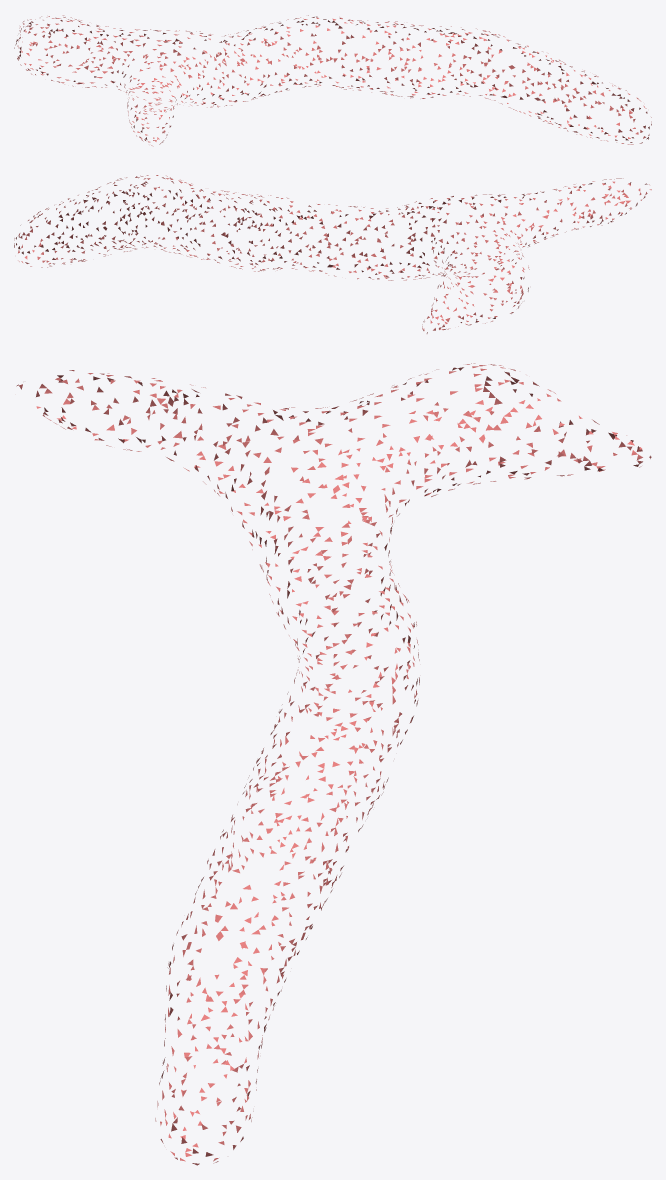
Rendered from morph_000.glb.
3 views of the same model, one above another, from view 1: azimuth 30°, elevation 25°; view 2: azimuth 150°, elevation 25°; view 3: azimuth 270°, elevation 25° (orthographic). The views are drawn at different scales.
Bounding box in the file's own units: 104 × 33.61 × 57.37.
